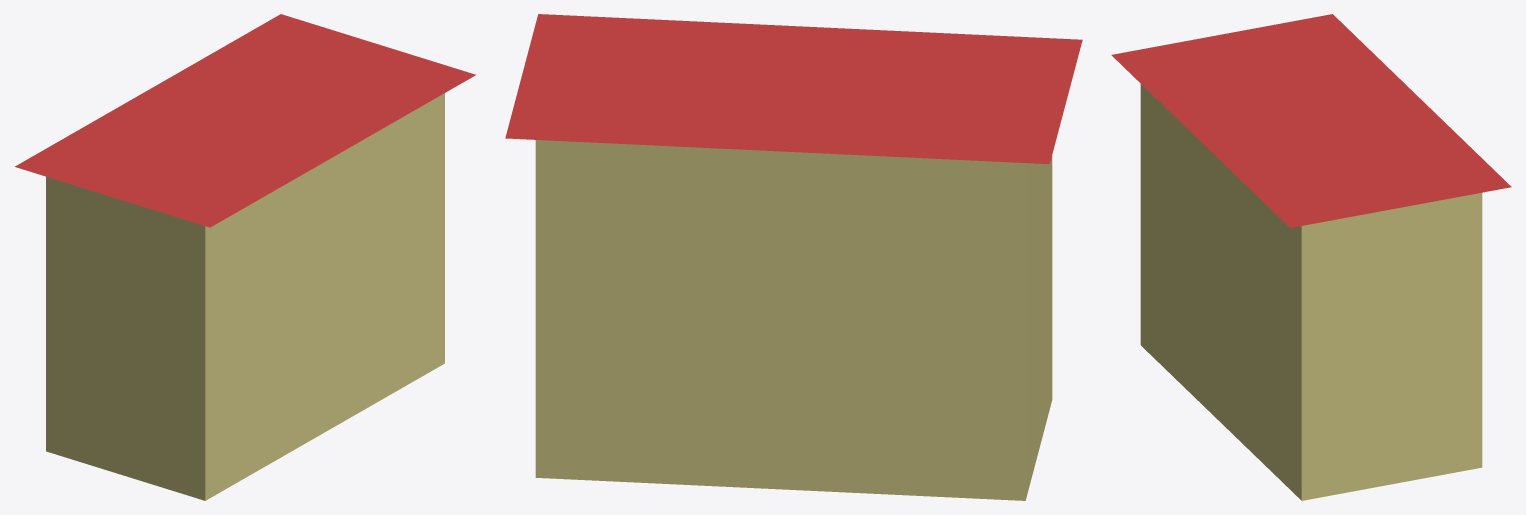
The picture shows the model from 3 angles, left to right: view 1: azimuth 30°, elevation 25°; view 2: azimuth 150°, elevation 25°; view 3: azimuth 270°, elevation 25°; orthographic projection. The views are drawn at different scales.
Bounding box in the file's own units: 11.32 × 8.96 × 7.04.
